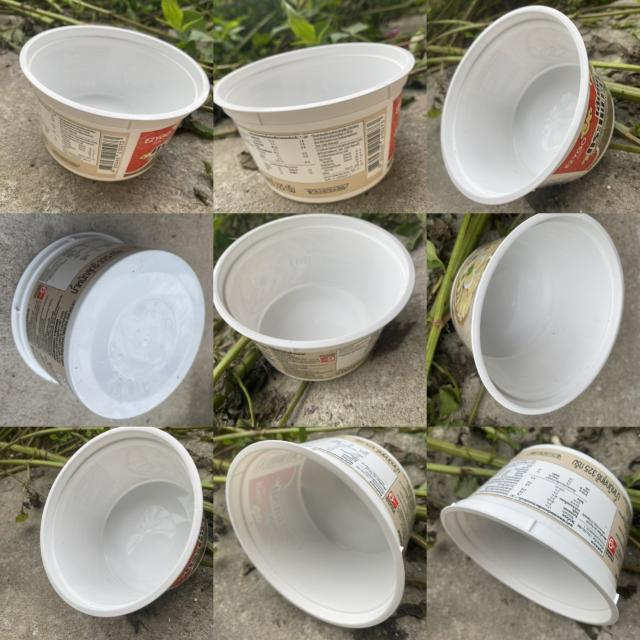Single-Use-Plastic: (226, 435, 415, 628), (11, 232, 205, 419), (451, 214, 624, 414), (441, 6, 614, 205), (441, 445, 632, 625), (214, 214, 415, 380), (214, 42, 415, 202), (40, 428, 208, 616), (20, 25, 209, 181)
